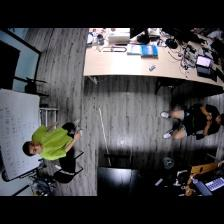normal: (160, 99, 224, 140), (21, 121, 85, 160)
